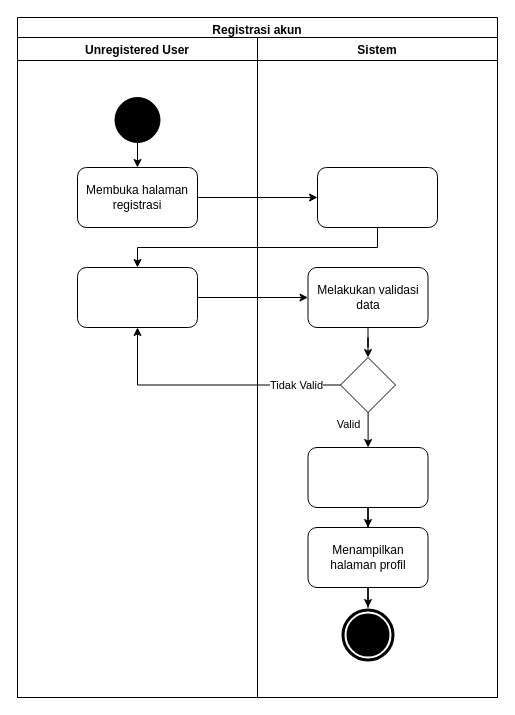
Some shapes in this 515 by 715 pixel diagram are drawn without their labels. Each missing label, with the centre of its shape:
"Menampilkan halaman registrasi" goes at [377,197].
"Mengisi formulir registrasi" goes at [137,297].
"Menyimpan data" goes at [367,477].
